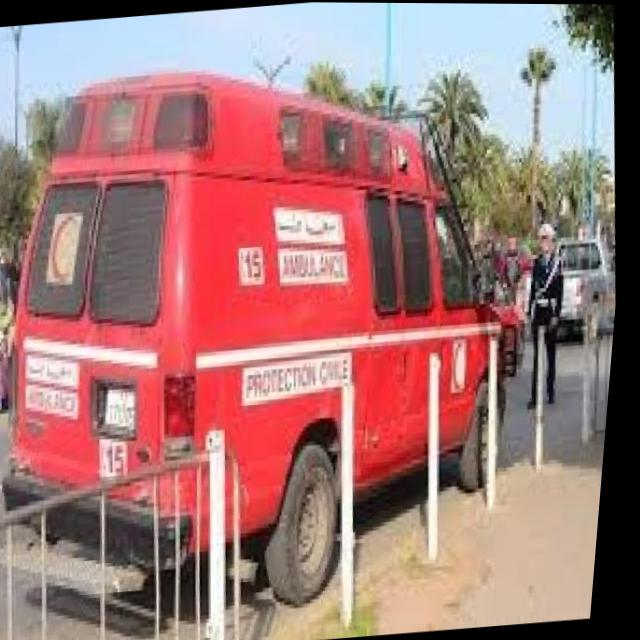ambulance: (0, 33, 579, 640)
